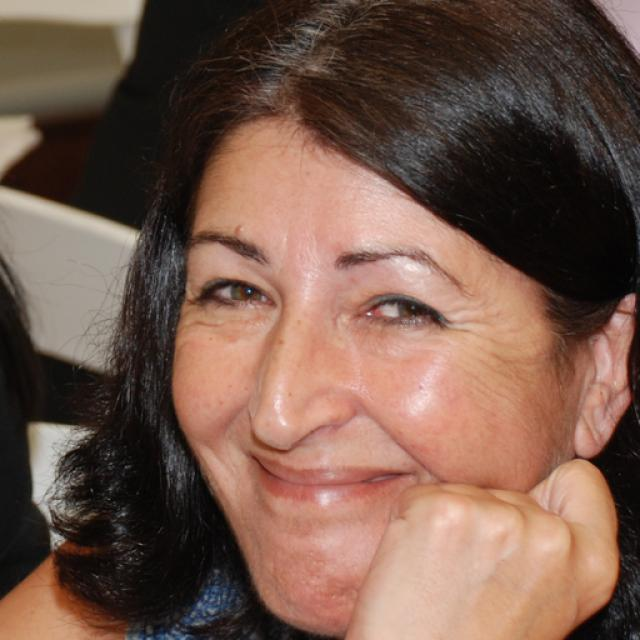Acne: (225, 211, 254, 246)
